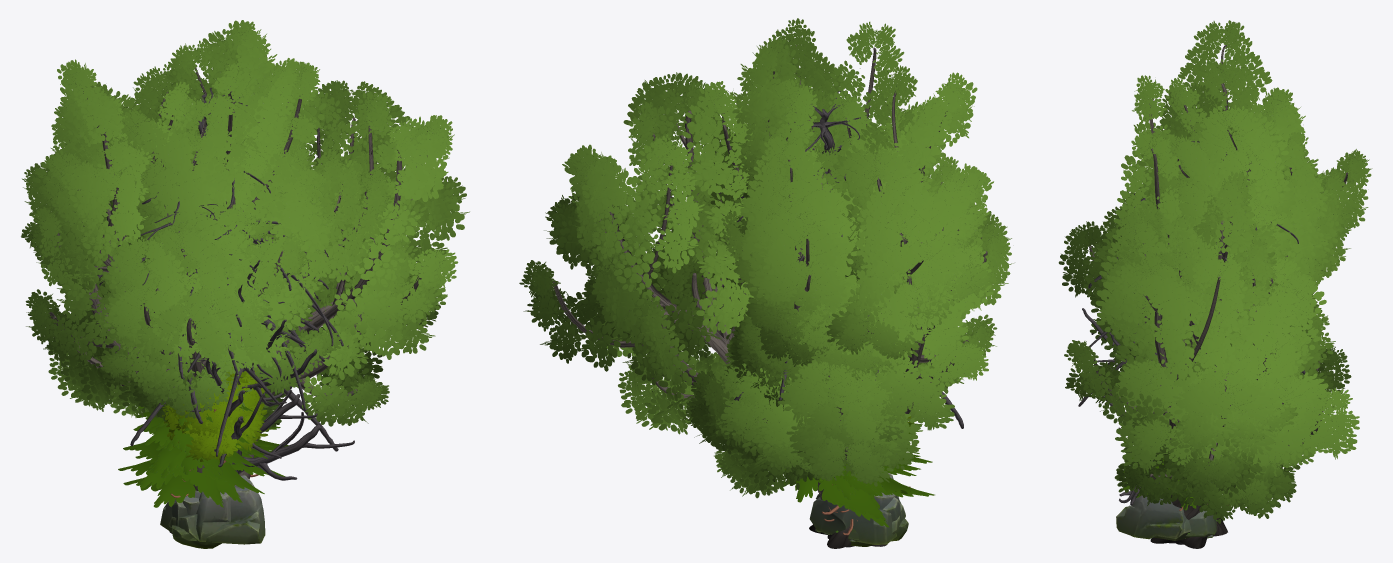
File: nature.glb
3 views of the same model, side by side, from view 1: azimuth 30°, elevation 25°; view 2: azimuth 150°, elevation 25°; view 3: azimuth 270°, elevation 25° (orthographic). The views are drawn at different scales.
Parts seen in each view (by area): view 1: TwistedTree_2, TwistedTree_1, TwistedTree_3, TwistedTree_4, TwistedTree_5, Rock_Medium_3, DeadTree_2, Pine_2, Pine_5, DeadTree_4, Pine_4, DeadTree_5 (+6 smaller); view 2: TwistedTree_1, TwistedTree_2, TwistedTree_4, TwistedTree_3, TwistedTree_5, Rock_Medium_2, Pine_5, DeadTree_5, Pine_2; view 3: TwistedTree_1, TwistedTree_4, TwistedTree_2, TwistedTree_3, TwistedTree_5, Rock_Medium_3, Rock_Medium_2.
Part boxes in pixels (bbox=[...]): TwistedTree_2: bbox=[21, 59, 320, 490]; TwistedTree_1: bbox=[145, 60, 469, 533]; TwistedTree_3: bbox=[48, 92, 394, 418]; TwistedTree_4: bbox=[66, 20, 367, 433]; TwistedTree_5: bbox=[91, 98, 345, 319]; Rock_Medium_3: bbox=[172, 475, 265, 548]; DeadTree_2: bbox=[182, 245, 354, 480]; Pine_2: bbox=[123, 424, 272, 507]; Pine_5: bbox=[118, 413, 288, 502]; DeadTree_4: bbox=[182, 207, 343, 456]; Pine_4: bbox=[123, 393, 267, 497]; DeadTree_5: bbox=[97, 87, 338, 451]; TwistedTree_1: bbox=[519, 72, 887, 548]; TwistedTree_2: bbox=[721, 18, 1013, 441]; TwistedTree_4: bbox=[710, 37, 937, 489]; TwistedTree_3: bbox=[683, 99, 1011, 498]; TwistedTree_5: bbox=[709, 119, 924, 410]; Rock_Medium_2: bbox=[809, 492, 896, 544]; Pine_5: bbox=[785, 433, 925, 519]; DeadTree_5: bbox=[709, 91, 963, 428]; Pine_2: bbox=[779, 448, 934, 527]; TwistedTree_1: bbox=[1064, 171, 1359, 548]; TwistedTree_4: bbox=[1080, 84, 1372, 380]; TwistedTree_2: bbox=[1100, 20, 1318, 376]; TwistedTree_3: bbox=[1058, 163, 1351, 513]; TwistedTree_5: bbox=[1111, 166, 1350, 379]; Rock_Medium_3: bbox=[1116, 495, 1186, 539]; Rock_Medium_2: bbox=[1186, 510, 1216, 537].
Bounding box in the file's own units: 17.96 × 19.08 × 12.13.
Materials: 12 (12 with a texture image).
